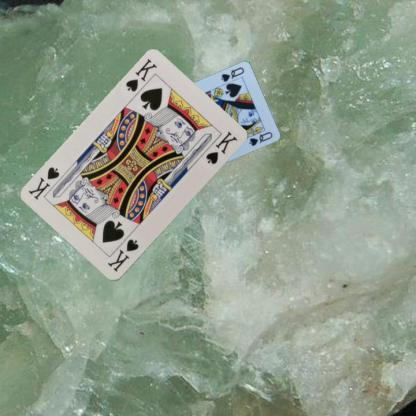Ks: (104, 236, 140, 274), (122, 56, 158, 94)
Qs: (218, 65, 246, 83)
